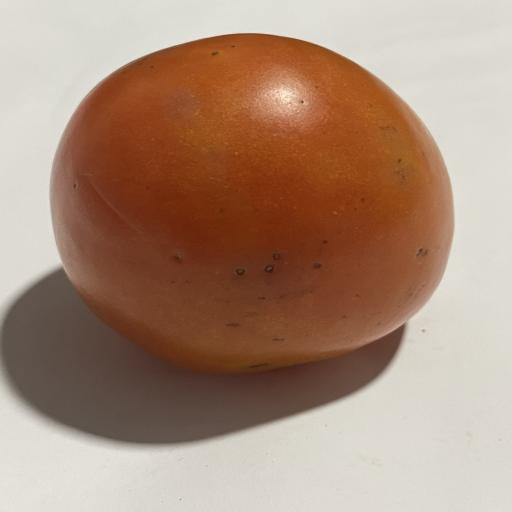ripe: (51, 34, 453, 373)
